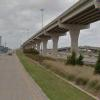Bridge: (15, 2, 93, 54)
